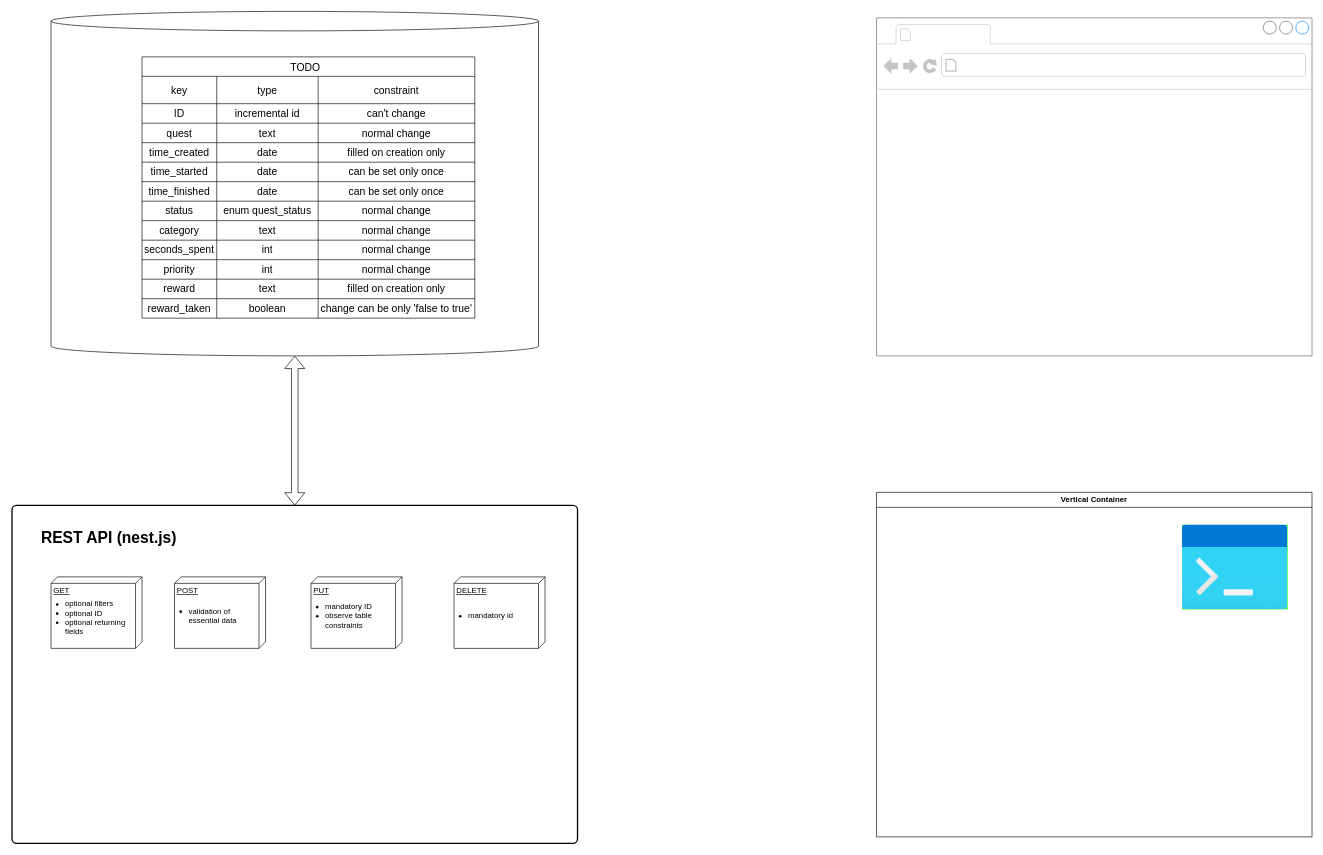
This 1323x855 diagram has some shape labels left out. Here are the shapes that lost their labels. From the top down, the centre of each, then its label:
At pixel 951 34: "Page 1".
At pixel 1042 65: "https://www.draw.io".
